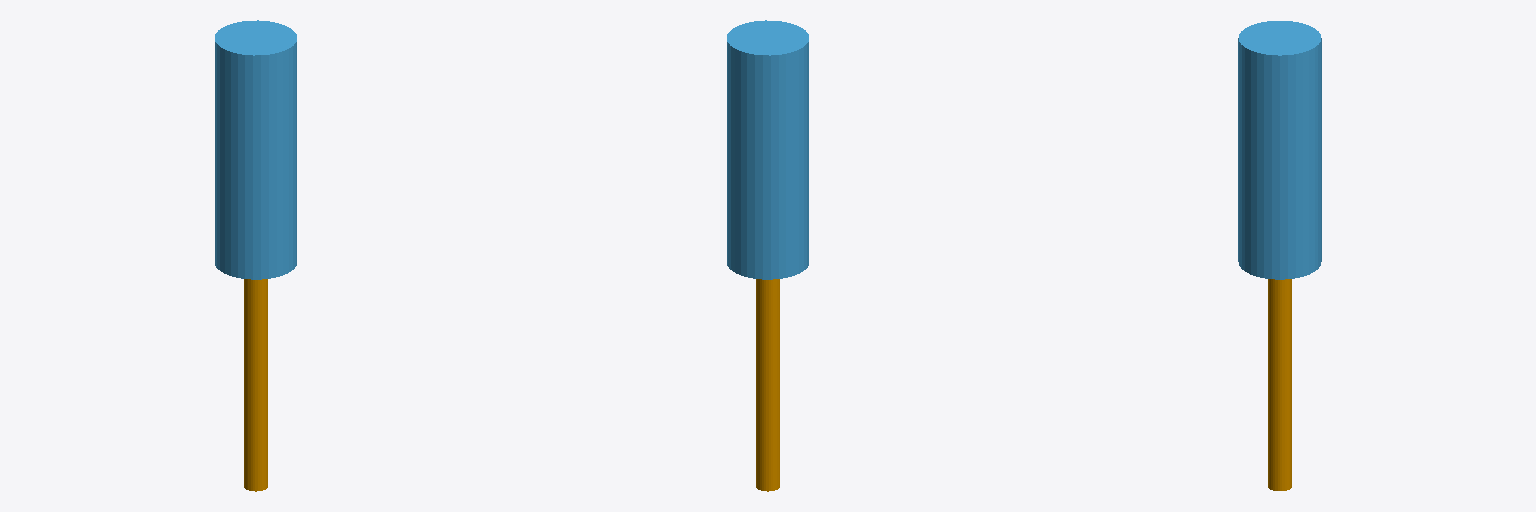
URDF robot description (screwdriver_on_the_table):
<?xml version="1.0" ?>
<!-- this is the one without any virtual joints and links -->
<robot name="screwdriver_on_the_table">
<link name="screwdriver_stick">
    <inertial>
      <mass value="0.05"/>
      <!-- <friction value="1.0"/> -->
      <inertia ixx="0.000041979" ixy="0.0" ixz="0.0" iyy="0.000041979" iyz="0.0" izz="0.000000625"/>
    </inertial>
    <visual>
        <origin rpy="0 0 0" xyz="0 0 0.05"/>
        <geometry>
            <cylinder radius="0.005" length="0.1"/>
        </geometry>
        <!-- <material name="White">
	 	    <color rgba="0.9 0.9 0.9 0.5"/>
        </material> -->
    </visual>
    <collision>
        <origin rpy="0 0 0" xyz="0 0 0.05"/>
        <geometry>
            <cylinder radius="0.005" length="0.1"/>
        </geometry>
    </collision>
</link>

<gazebo reference="screwdriver_body">
    <mu1>1.339780</mu1>
    <mu2>0.756151</mu2>
    <!-- Isaac Sim maps mu1/mu2 to PhysX static/dynamic friction during URDF→USD import -->
</gazebo>

<joint name="screwdriver_stick_body_joint" type="fixed">
    <parent link="screwdriver_stick"/>
    <child link="screwdriver_body"/>
    <origin rpy="0 0 0" xyz="0 0 0.1"/> 
    <axis xyz="0 0 1"/>
</joint>

<link name="screwdriver_body">
    <inertial>
      <mass value="0.178298"/>
      <inertia ixx="0.000161164" ixy="0.0" ixz="0.0" iyy="0.000161164" iyz="0.0" izz="0.000025165"/>
    </inertial>
    <visual>
        <origin rpy="0 0 0" xyz="0 0 0.05"/>
        <geometry>
            <cylinder radius="0.016801" length="0.1"/>
        </geometry>
        <!-- <material name="Red1">
	 	    <color rgba="0.9 0. 0. 0.5"/>
        </material> -->
    </visual>
    <collision>
        <origin rpy="0 0 0" xyz="0 0 0.05"/>
        <geometry>
            <cylinder radius="0.016801" length="0.1"/>
        </geometry>
    </collision>
</link>

<!-- <joint name="screwdriver_body_cap_joint" type="revolute">
    <parent link="screwdriver_body"/>
    <child link="screwdriver_cap"/>
    <origin rpy="0 0 0" xyz="0 0 0.1"/> 
    <axis xyz="0 0 1"/>
</joint>

<link name="screwdriver_cap">
    <inertial>
      <mass value="0.005"/>
      <inertia ixx="0.00001" ixy="0.0" ixz="0.0" iyy="0.000005" iyz="0.0" izz="0.000005"/>
    </inertial>
    <visual>
        <origin rpy="0 0 0" xyz="0 0 0.0006"/>
        <geometry>
            <cylinder radius="0.02" length="0.001"/>
        </geometry>
        <material name="Yellow">
	 	    <color rgba="0.9 0.9 0. 1.0"/>
        </material>
    </visual>
    <collision>
        <origin rpy="0 0 0" xyz="0 0 0.0005"/>
        <geometry>
            <cylinder radius="0.02" length="0.001"/>
        </geometry>
    </collision>
</link> -->

</robot>

--- Facts derived from the render (not from the file) ---
3 views of the same robot in one strip: view 1: azimuth 30°, elevation 25°; view 2: azimuth 150°, elevation 25°; view 3: azimuth 270°, elevation 25° (orthographic).
Robot: screwdriver_on_the_table — 2 links, 1 joints (1 fixed); root link screwdriver_stick; default pose: all joints at 0.
Links seen in each view (by area): view 1: screwdriver_body, screwdriver_stick; view 2: screwdriver_body, screwdriver_stick; view 3: screwdriver_body, screwdriver_stick.
Boxes of the visible links, x1,y1,x2,y2 form: screwdriver_body: [215, 20, 296, 279]; screwdriver_stick: [244, 279, 267, 491]; screwdriver_body: [727, 20, 808, 279]; screwdriver_stick: [756, 279, 779, 491]; screwdriver_body: [1238, 21, 1321, 279]; screwdriver_stick: [1268, 279, 1291, 490].
Size in the robot's own frame: 0.0336 by 0.0336 by 0.2 metres.
Geometry: primitives only (box / cylinder / sphere), no mesh files.
